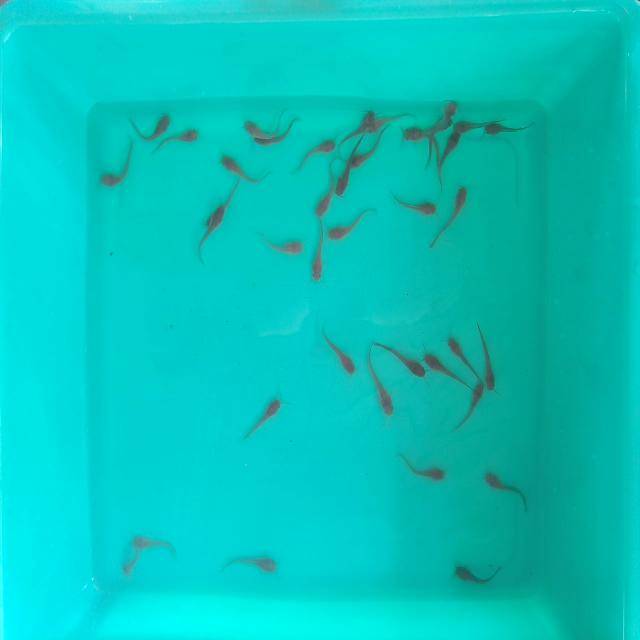lele: (372, 338, 430, 386), (420, 343, 476, 392), (318, 322, 360, 380), (240, 393, 284, 441), (481, 468, 532, 508), (447, 336, 486, 388), (332, 205, 380, 245), (397, 454, 451, 488), (443, 184, 472, 247), (366, 362, 398, 418), (110, 135, 140, 192), (252, 231, 304, 263), (388, 186, 441, 217), (479, 314, 500, 391), (451, 389, 486, 435), (220, 152, 265, 187), (209, 176, 242, 223), (150, 130, 202, 158), (437, 132, 463, 182), (340, 106, 370, 148), (224, 555, 278, 577), (310, 225, 329, 284), (454, 566, 504, 588), (295, 135, 337, 161), (140, 112, 172, 146), (134, 532, 183, 554), (344, 144, 386, 168), (197, 220, 217, 266), (372, 110, 412, 133), (243, 116, 280, 139), (275, 115, 303, 145), (486, 121, 536, 136), (120, 543, 140, 577), (432, 114, 452, 146), (401, 122, 432, 142), (335, 166, 355, 196), (453, 118, 487, 135), (315, 195, 336, 221), (440, 97, 458, 118)
